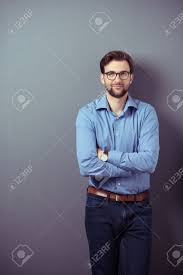F_belt: (80, 180, 154, 210)
F_dress pants: (82, 197, 153, 275)
F_shirt: (77, 98, 156, 190)
